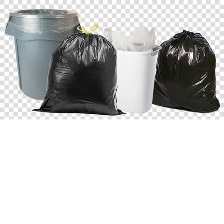plastic_bag: (27, 28, 129, 118), (148, 27, 224, 115), (100, 22, 159, 52)
